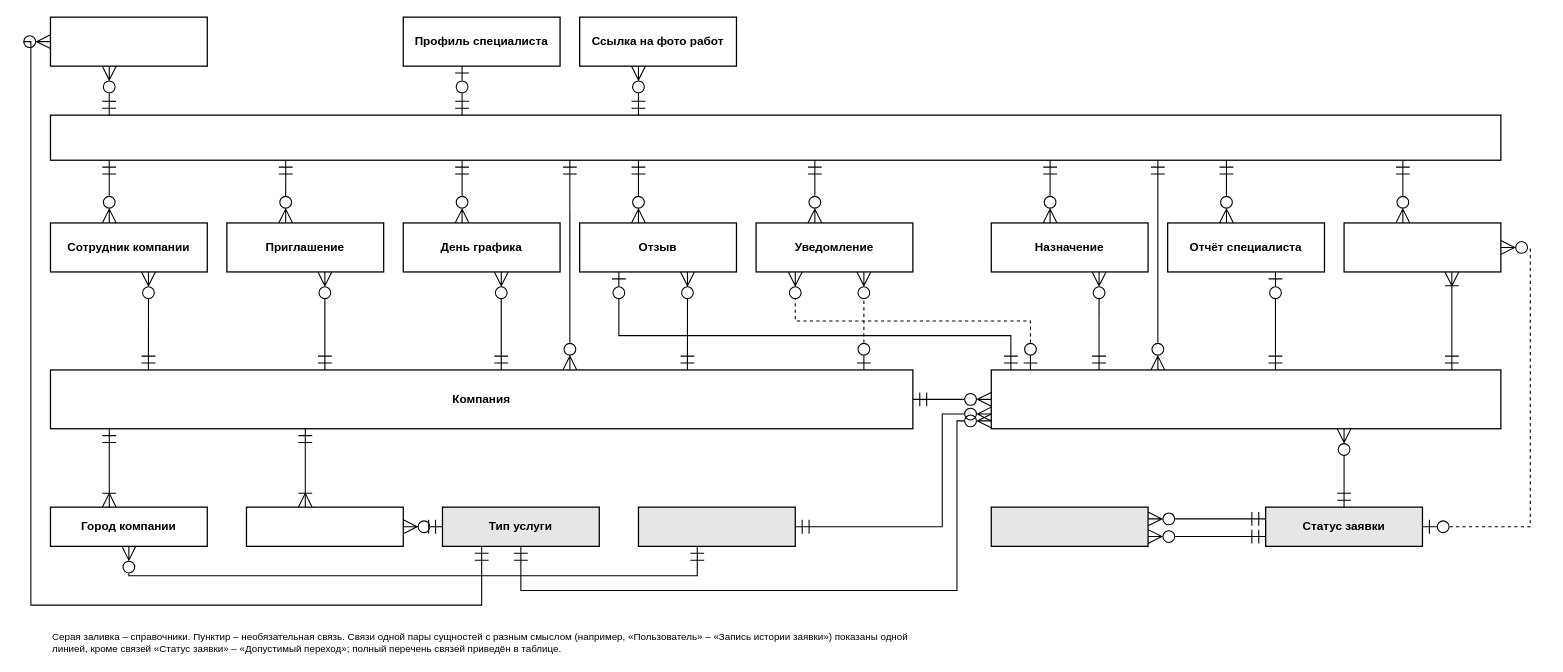
This 1563x672 diagram has some shape labels left out. The shapes that lost their labels are listed below. From the top down, each one's centre as x and y in pixels, then its label:
At pixel 128 41: "Специализация специалиста".
At pixel 775 137: "Пользователь".
At pixel 1422 247: "Запись истории заявки".
At pixel 1245 399: "Заявка".
At pixel 324 526: "Услуга компании".
At pixel 716 526: "Город".
At pixel 1069 526: "Допустимый переход".
